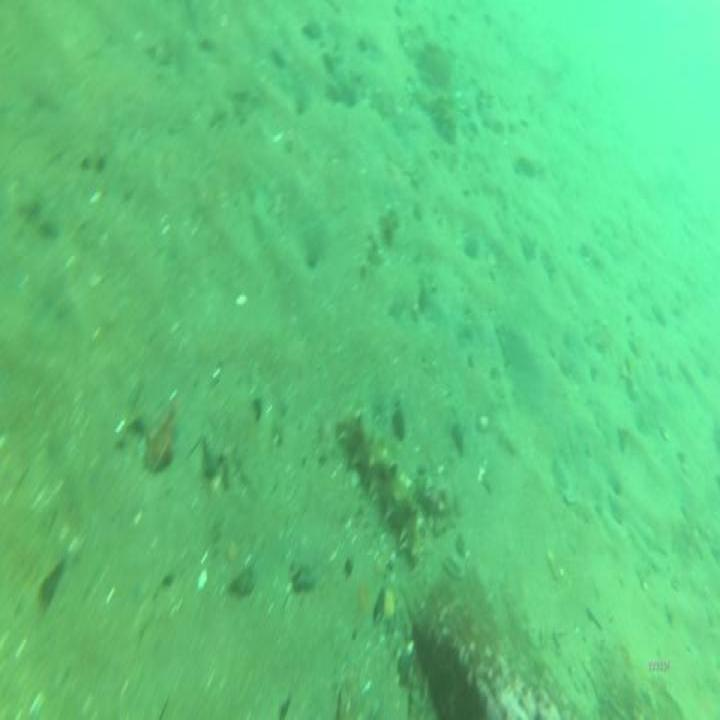holothurian: (332, 405, 426, 567)
